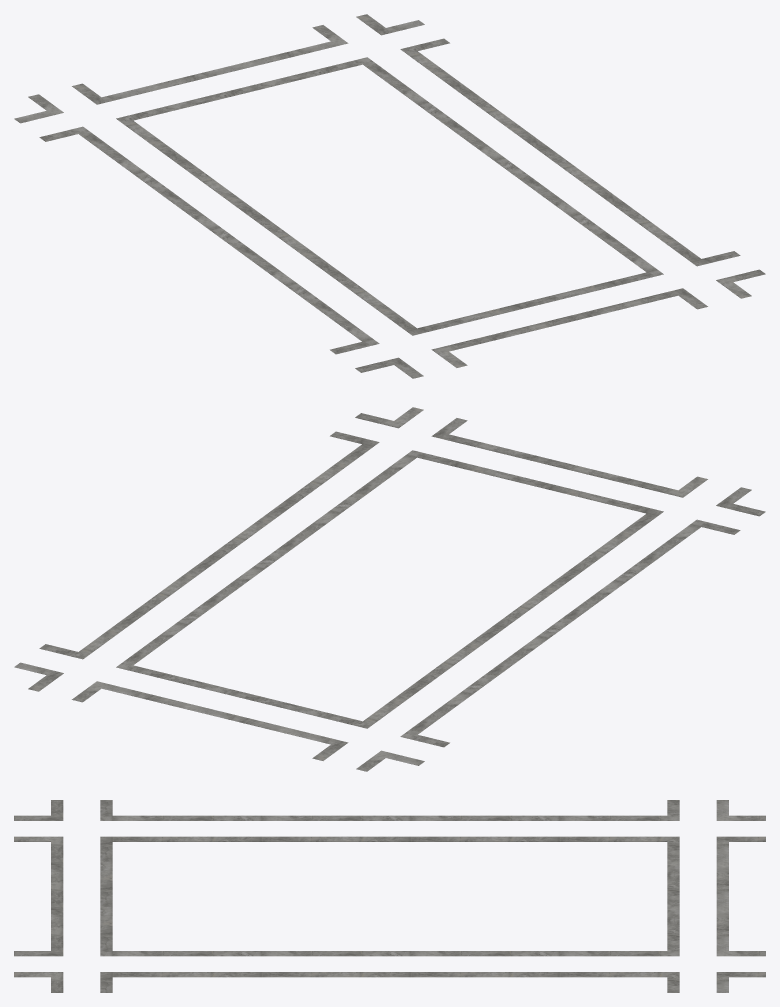
File: newsidewalk.fbx
3 renders of one model, top to bottom at view 1: azimuth 30°, elevation 25°; view 2: azimuth 150°, elevation 25°; view 3: azimuth 270°, elevation 25°, orthographic. The views are drawn at different scales.
Visible parts, largest first — view 1: SideWalk_All; view 2: SideWalk_All; view 3: SideWalk_All.
Part boxes in pixels (x1,y1,x2,y2): SideWalk_All: (14, 14, 765, 378); SideWalk_All: (14, 407, 765, 771); SideWalk_All: (14, 800, 765, 992).
Size of the model in its own units: 4471 by 1 by 7368.
